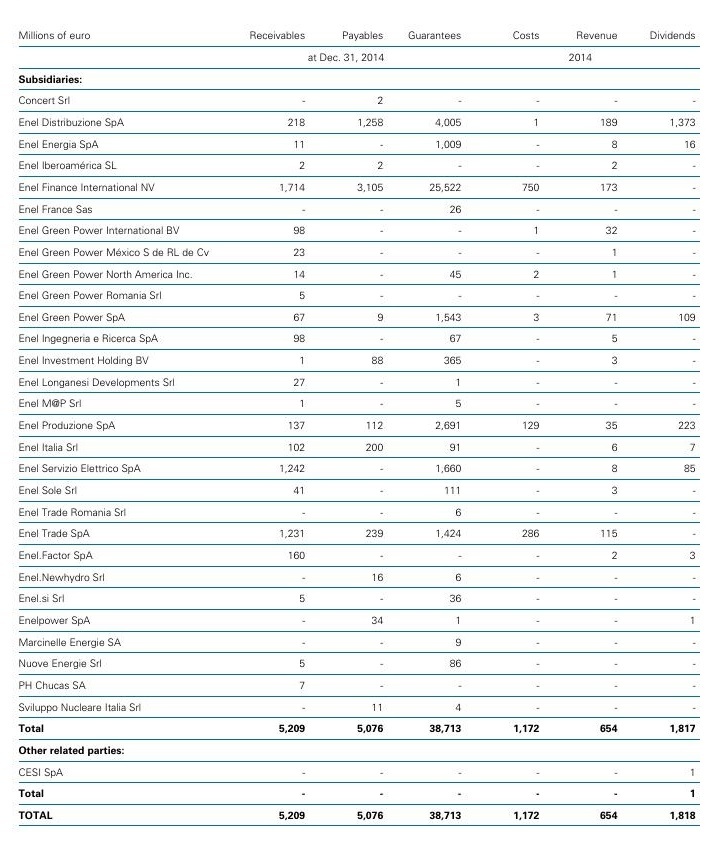table: (0, 0, 714, 841)
